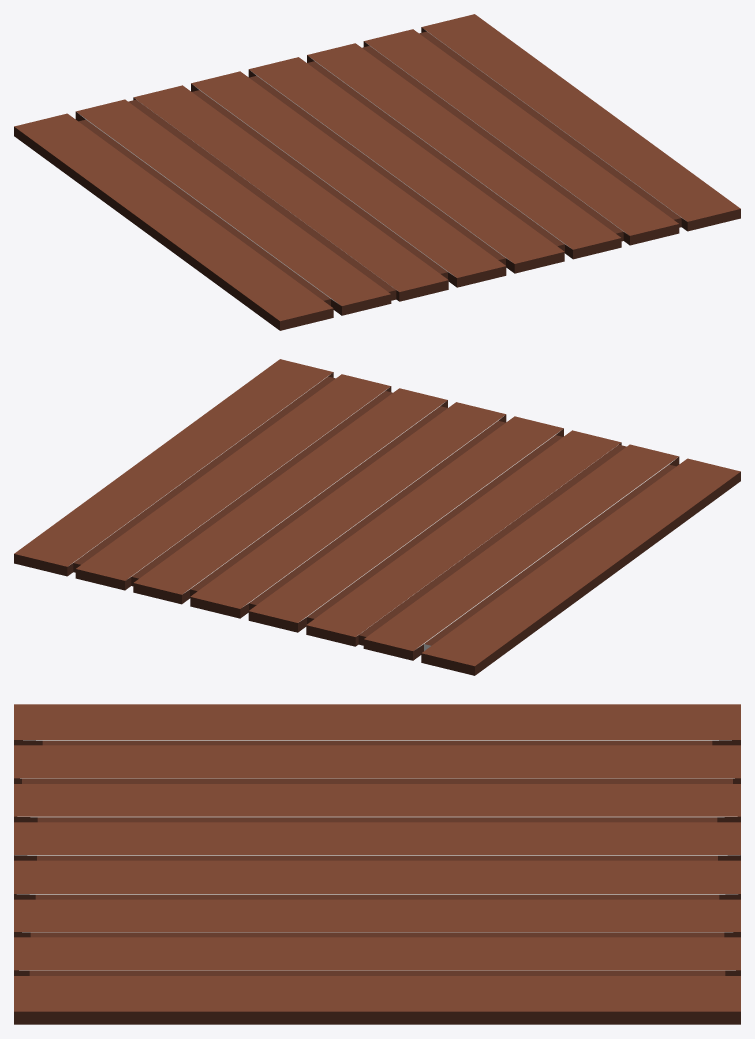
Rendered from chao.fbx.
3 renders of one model, top to bottom at view 1: azimuth 30°, elevation 25°; view 2: azimuth 150°, elevation 25°; view 3: azimuth 270°, elevation 25°, orthographic. The views are drawn at different scales.
Visible parts, largest first — view 1: PisoDeMadeira_LoPo; view 2: PisoDeMadeira_LoPo; view 3: PisoDeMadeira_LoPo.
Boxes of the visible parts, bbox=[...] form: PisoDeMadeira_LoPo: bbox=[14, 14, 740, 330]; PisoDeMadeira_LoPo: bbox=[14, 359, 740, 675]; PisoDeMadeira_LoPo: bbox=[14, 704, 740, 1024].
Size of the model in its own units: 1001 by 20 by 1001.
